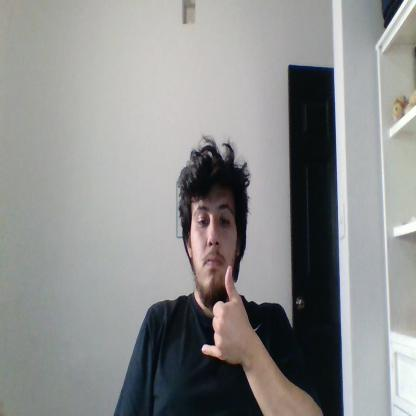Y: (201, 265, 247, 363)
